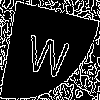W: (25, 25, 73, 79)
